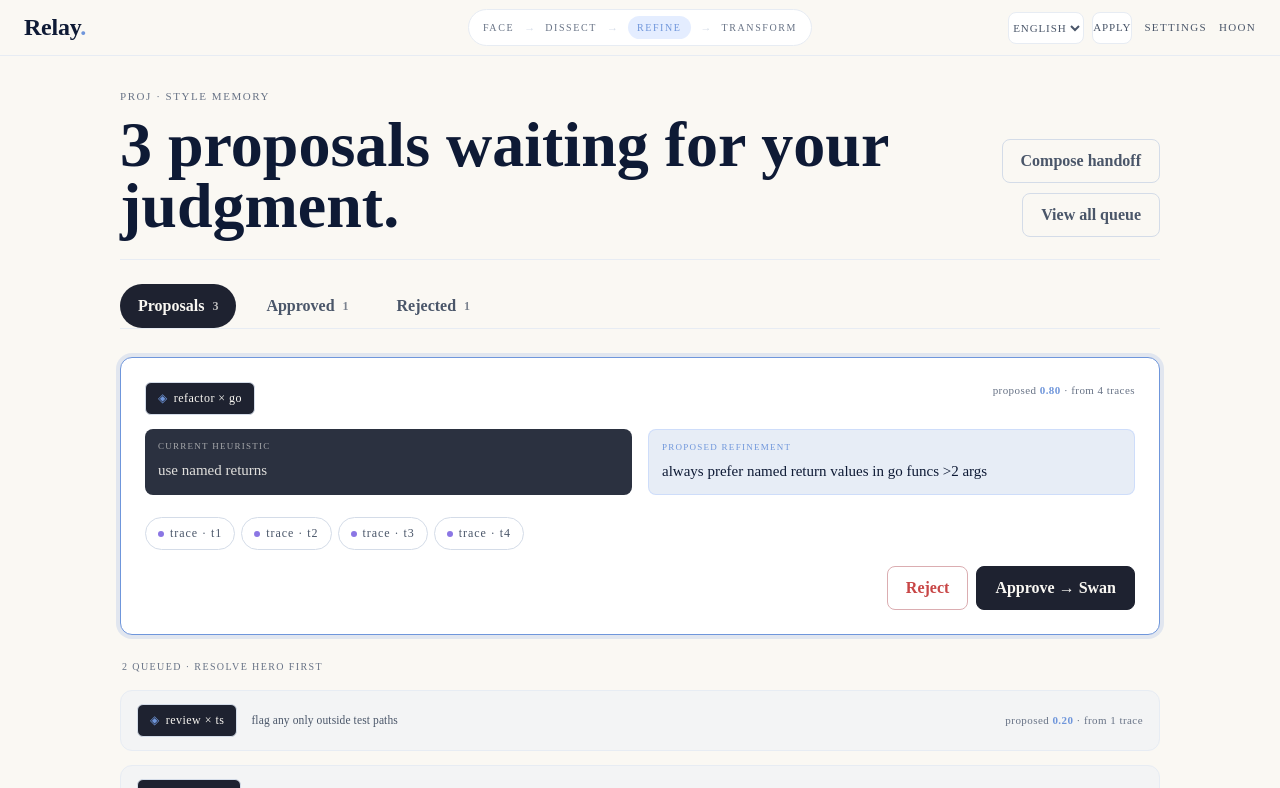
Test case: approve action › shows 'Already resolved' toast on 409
What coordinates should you click on to do the following:
click the button with test id "approve-p-1"
I would click on:
 (1056, 588)
Its box is [976,566,1135,610].
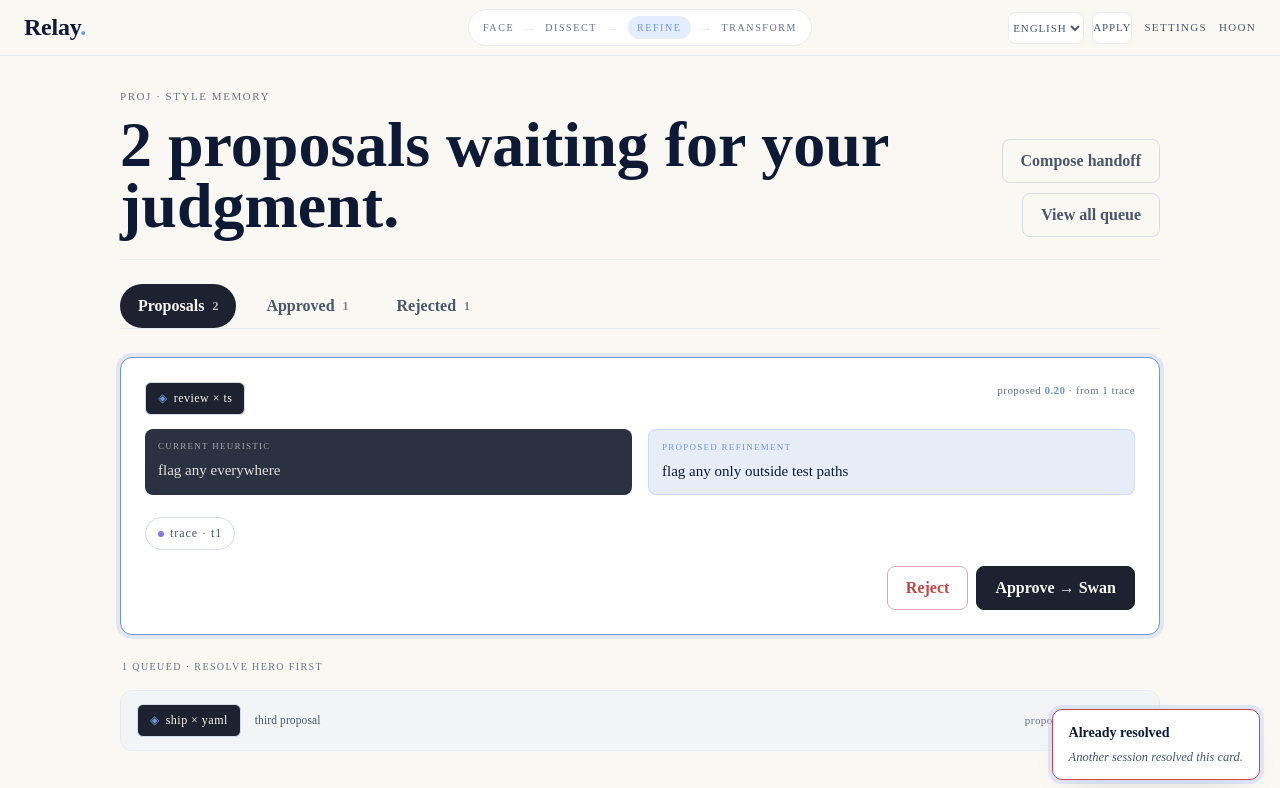
Expected: the text "Already resolved" is shown, [1069,725,1170,740]
